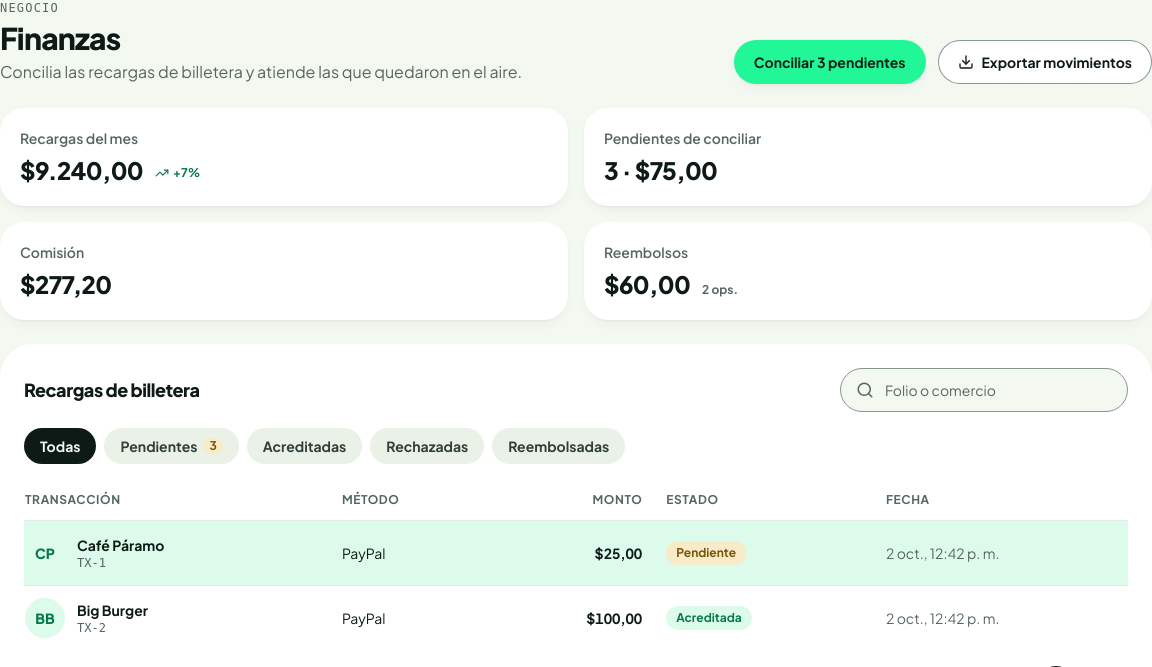
Scenario: B09 Finanzas › en movil el detalle se abre en una hoja al elegir una transaccion
Expected: the text "Saldo tras acreditar" is not shown
Click the button "CP Café Páramo TX-1" at (95, 553), box [25, 533, 164, 573]
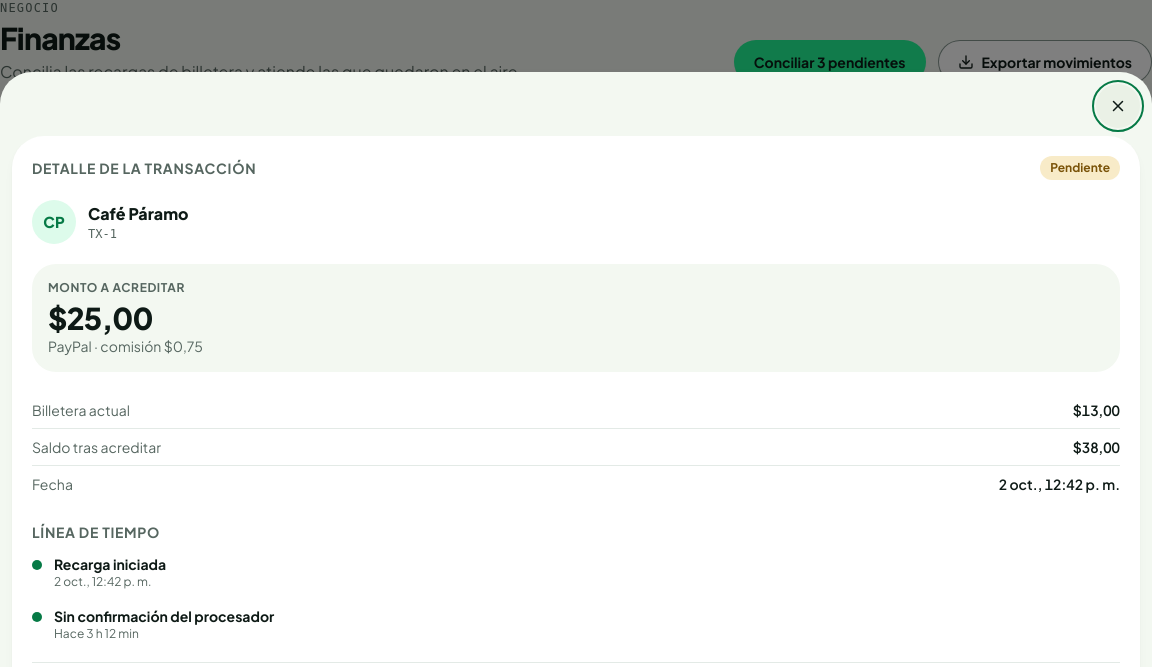
Expected: the text "Saldo tras acreditar" is shown, [32, 437, 161, 457]
